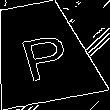P_N: (11, 24, 72, 81)
